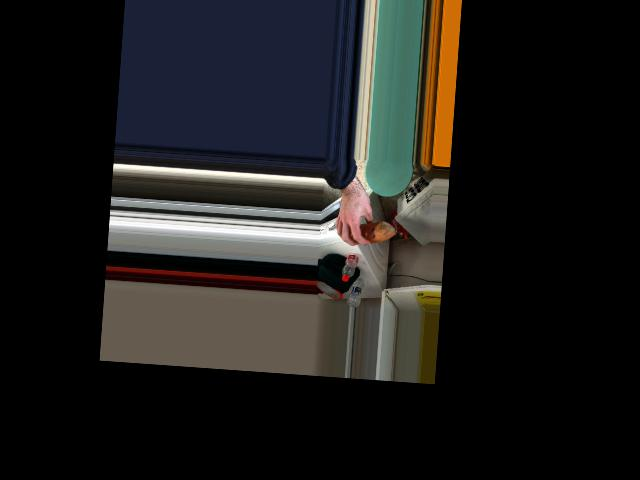sweet_potato: (353, 224, 387, 241)
